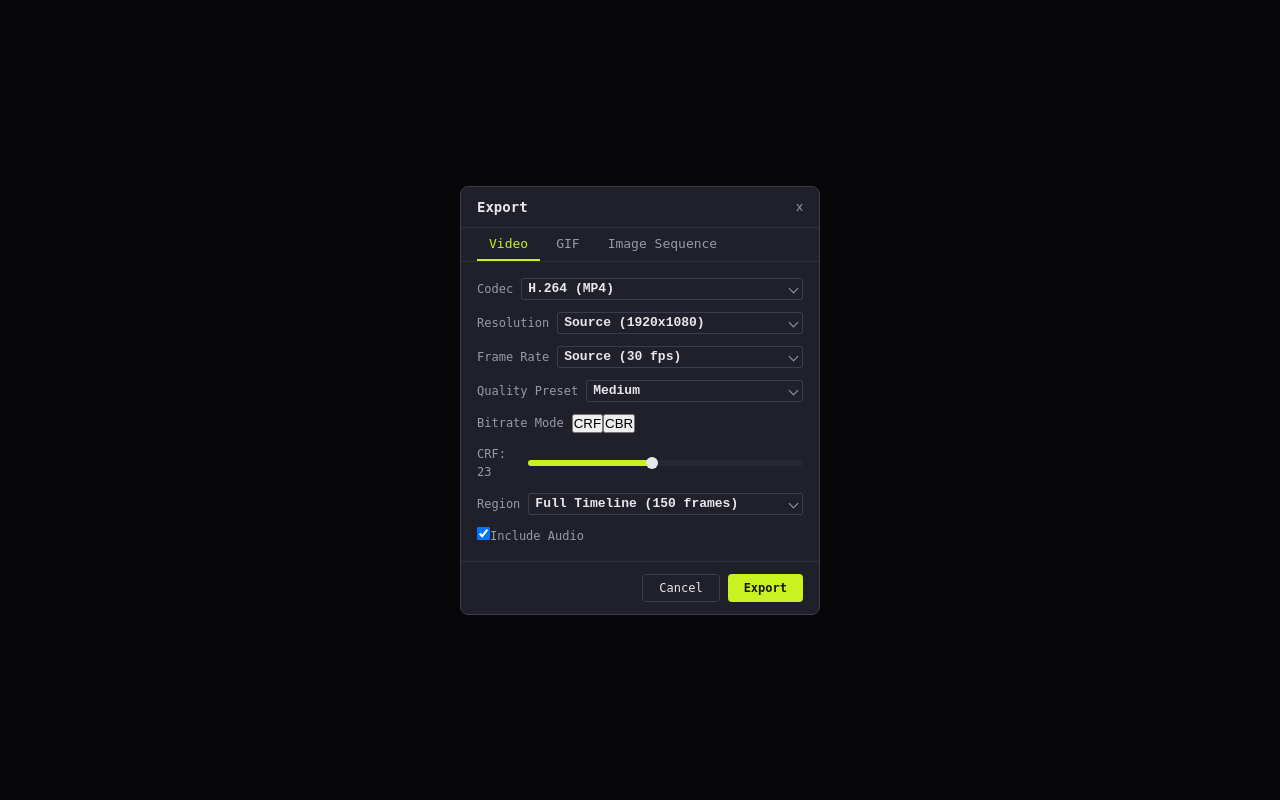
Test case: Export — Dialog Structure › Image Sequence tab shows format dropdown
Click the button with class "export-dialog__tab" showing "Image Sequence".
click(662, 244)  # box [596,228,729,260]
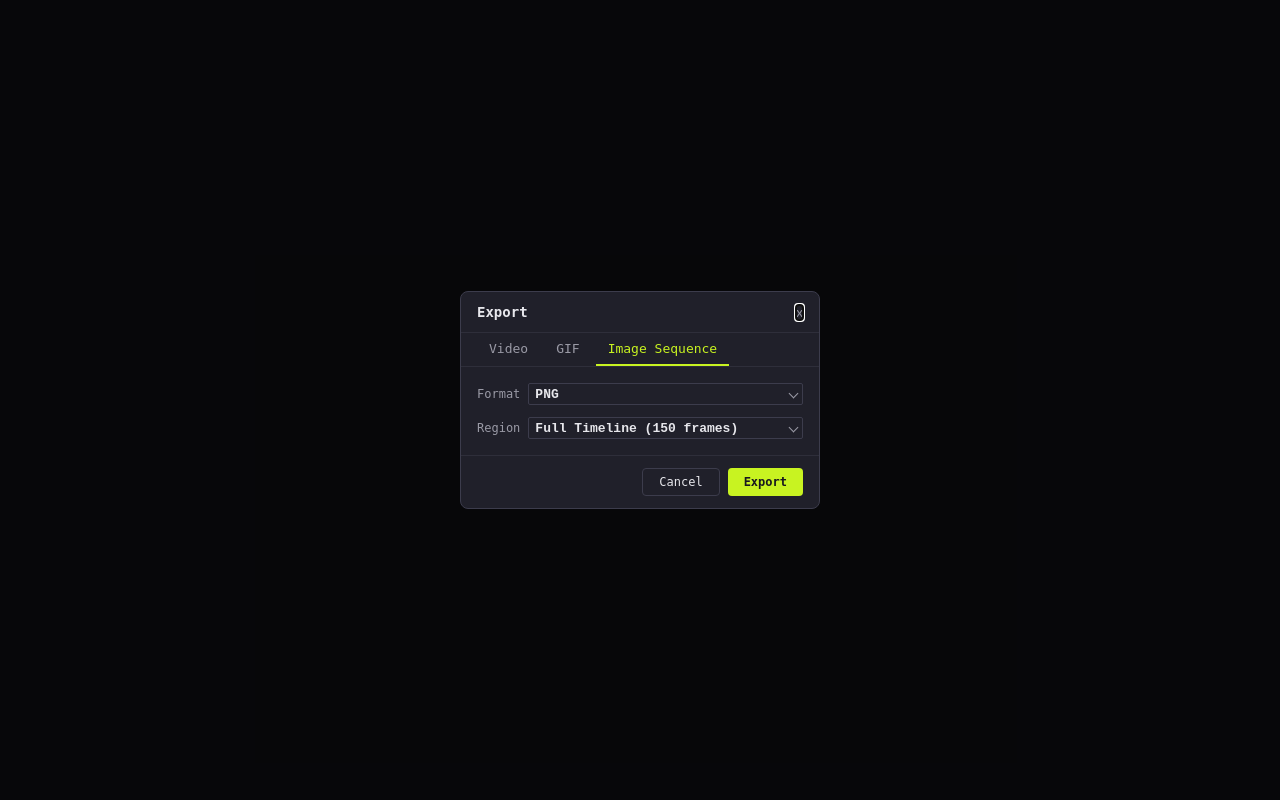
Expected: the button with class "export-dialog__tab" reads "Image Sequence", [596,333,729,366]
Now the dropdown next to "Format" shows "PNG", box [528,383,803,405]
